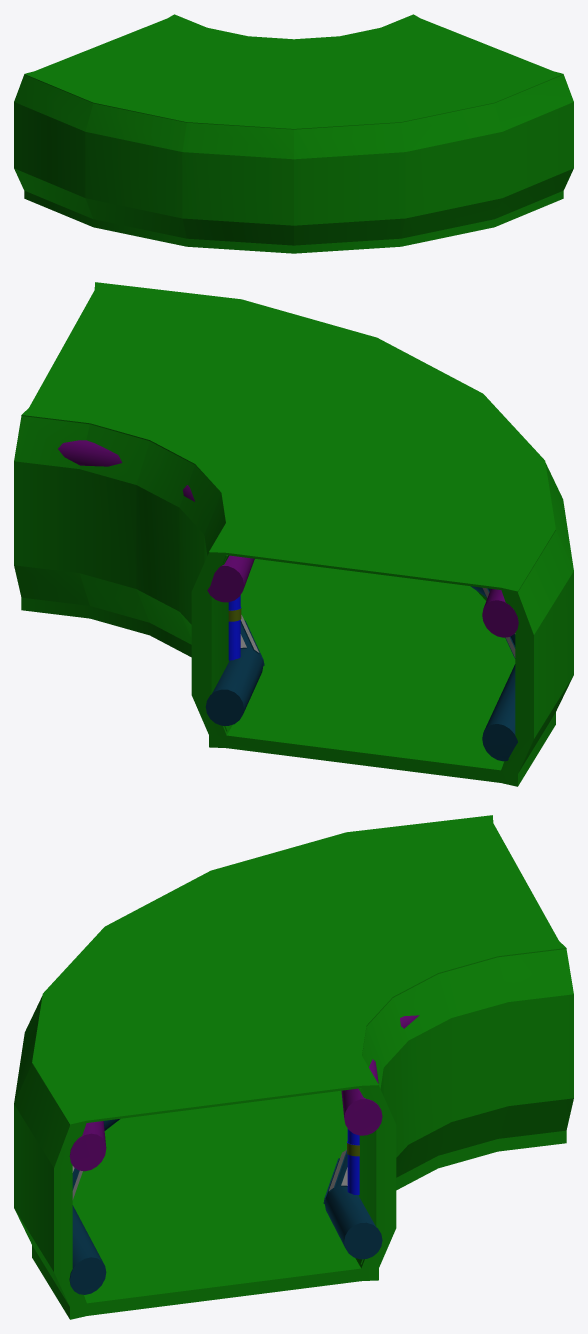
File: dernier couloir.fbx
3 renders of one model, top to bottom at view 1: azimuth 30°, elevation 25°; view 2: azimuth 150°, elevation 25°; view 3: azimuth 270°, elevation 25°, orthographic. The views are drawn at different scales.
Visible parts, largest first — view 1: Turning couloir; view 2: Turning couloir; view 3: Turning couloir.
Boxes of the visible parts, x1,y1,x2,y2 form: Turning couloir: (14, 14, 573, 253); Turning couloir: (14, 282, 573, 786); Turning couloir: (14, 815, 573, 1319).
Size of the model in its own units: 5851 by 1660 by 4312.
